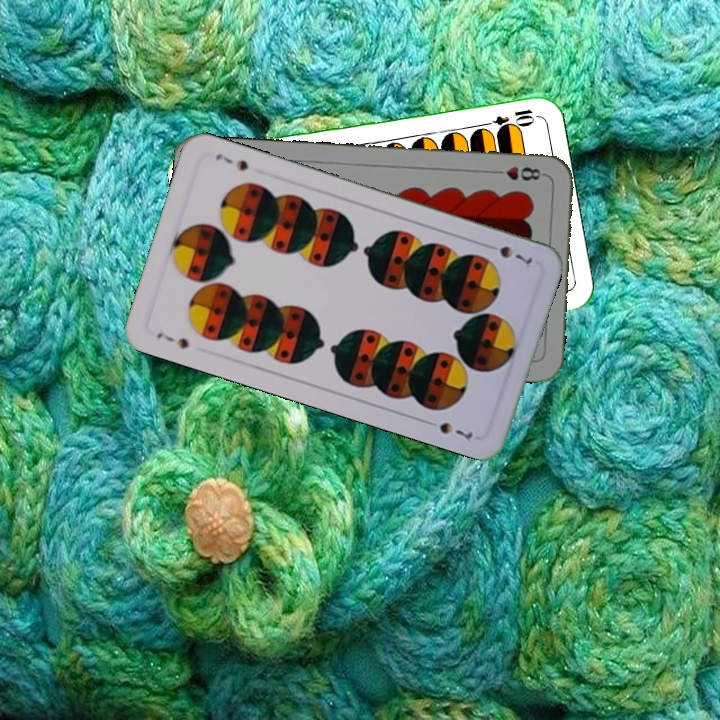E10: (478, 105, 537, 132)
H8: (488, 162, 548, 183)
S7: (481, 239, 535, 267), (152, 328, 192, 352)
